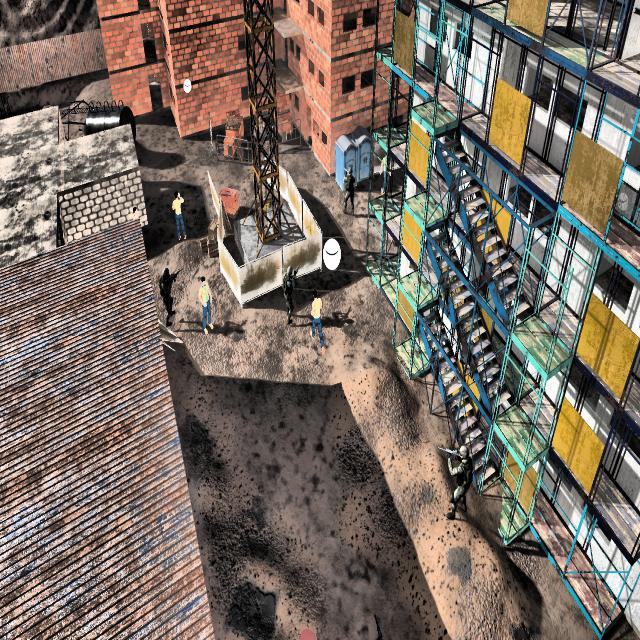bad: (444, 428, 474, 524), (156, 256, 181, 337), (279, 261, 300, 335), (341, 156, 358, 219)
good: (165, 182, 192, 252), (195, 266, 216, 338), (307, 288, 326, 362), (379, 146, 390, 196), (130, 201, 143, 223)
